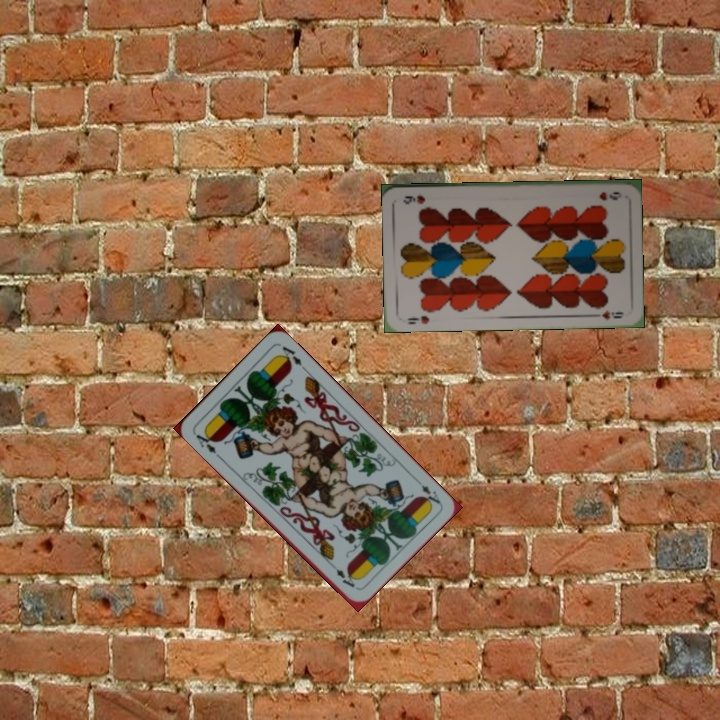EA: (190, 427, 219, 456), (417, 481, 443, 508)
H9: (403, 311, 432, 327), (595, 188, 624, 203)
